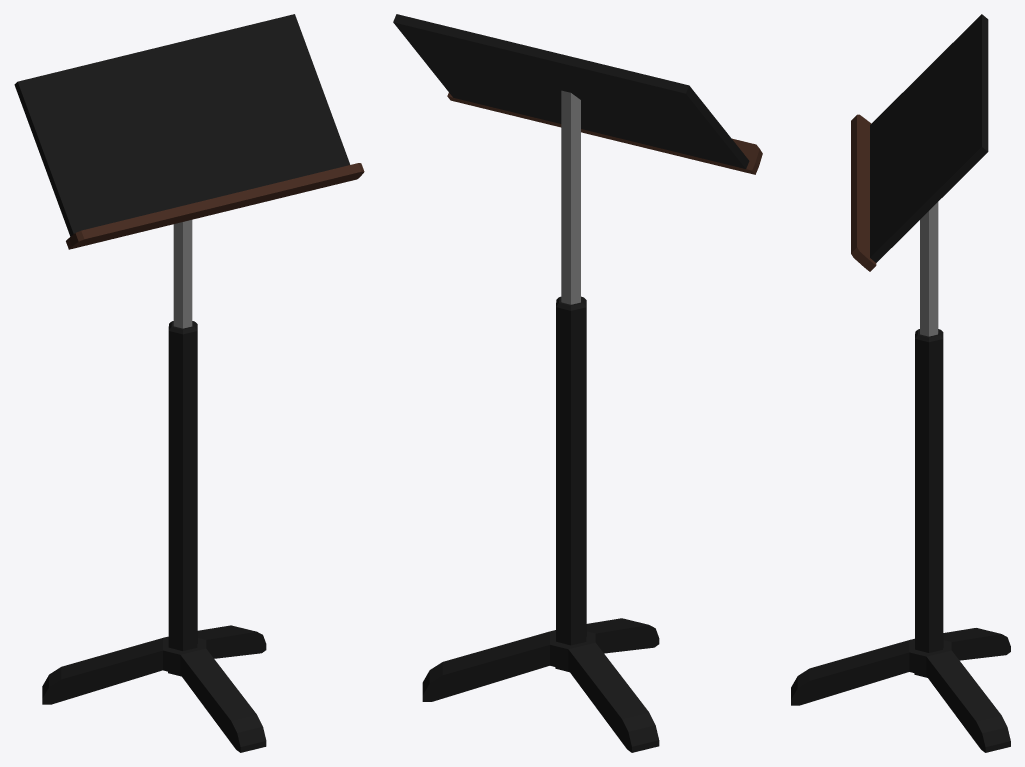
Rendered from Int_MusicRoomStand01.fbx.
The picture shows the model from 3 angles, left to right: view 1: azimuth 30°, elevation 25°; view 2: azimuth 150°, elevation 25°; view 3: azimuth 270°, elevation 25°; orthographic projection. The views are drawn at different scales.
Parts seen in each view (by area): view 1: Int_MusicRoomStand01; view 2: Int_MusicRoomStand01; view 3: Int_MusicRoomStand01.
Part boxes in pixels (x1,y1,x2,y2): Int_MusicRoomStand01: (14, 14, 364, 752); Int_MusicRoomStand01: (393, 14, 762, 752); Int_MusicRoomStand01: (791, 14, 1010, 752).
Size of what is drawn, in the model's own units: 57.42 by 38.59 by 120.
